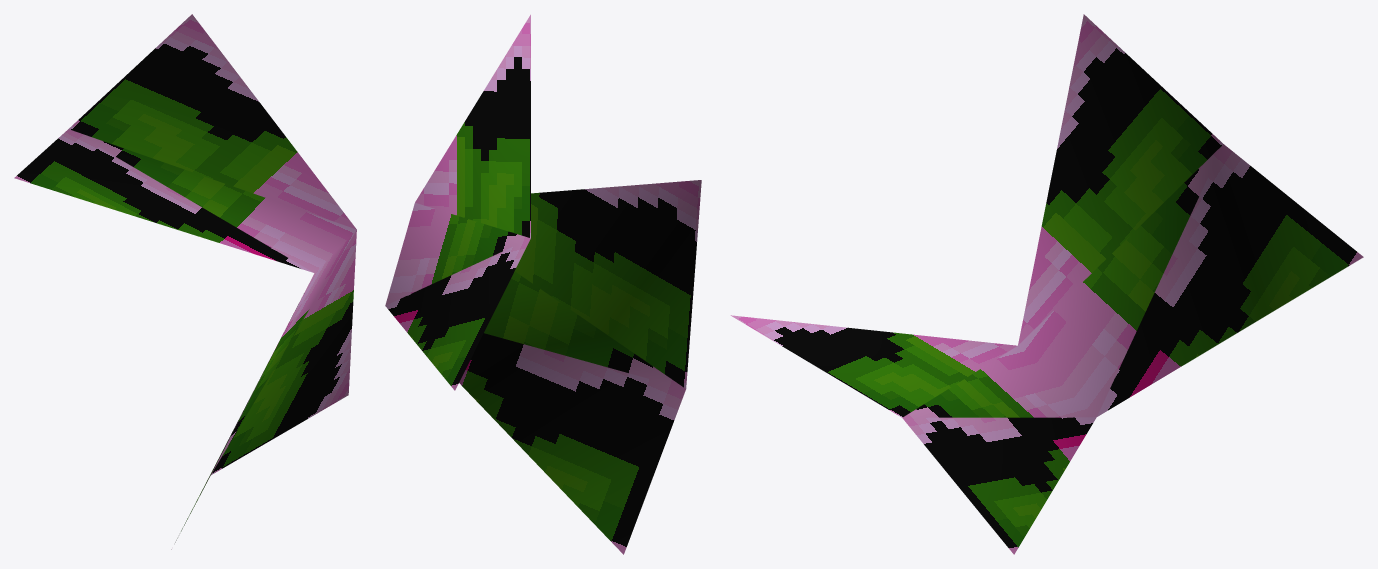
Rendered from 1085item556.gltf.
3 views of the same model, side by side, from view 1: azimuth 30°, elevation 25°; view 2: azimuth 150°, elevation 25°; view 3: azimuth 270°, elevation 25° (orthographic). The views are drawn at different scales.
Parts seen in each view (by area): view 1: 1085item556; view 2: 1085item556; view 3: 1085item556.
Boxes of the visible parts, <box> form: 1085item556: <box>14,14,356,549</box>; 1085item556: <box>385,14,701,554</box>; 1085item556: <box>730,14,1363,554</box>.
Bounding box in the file's own units: 0.0569 × 0.1391 × 0.1399.
Materials: 1 (1 with a texture image).
